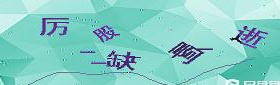chinese: (165, 38, 210, 64), (233, 23, 270, 51), (106, 51, 143, 75), (38, 14, 69, 35), (90, 26, 120, 44)
